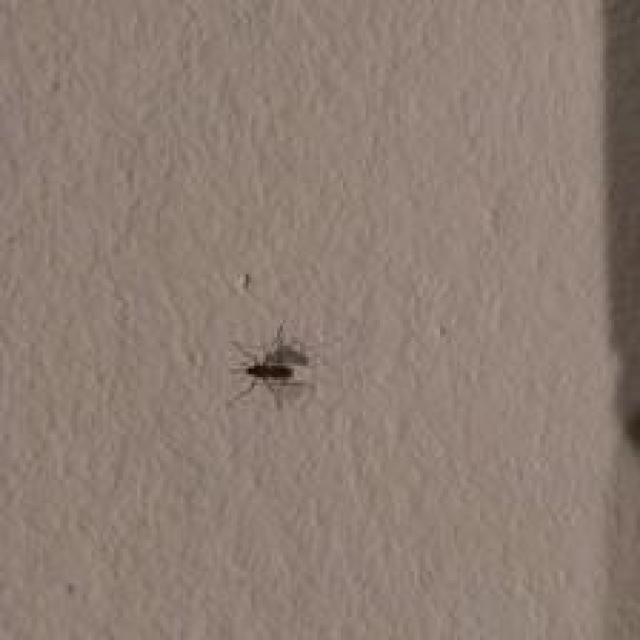Culex: (226, 321, 314, 410)
